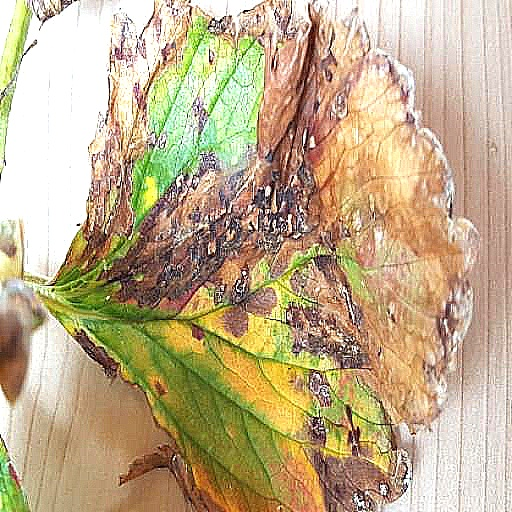Angular Leafspot: (39, 0, 482, 511)
